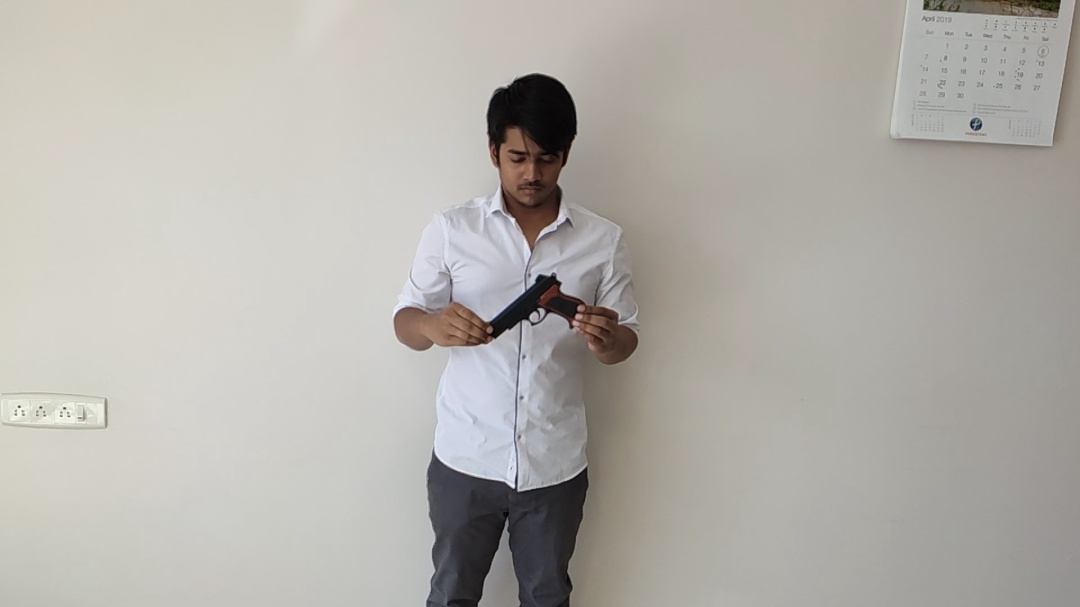gun: (492, 271, 583, 340)
